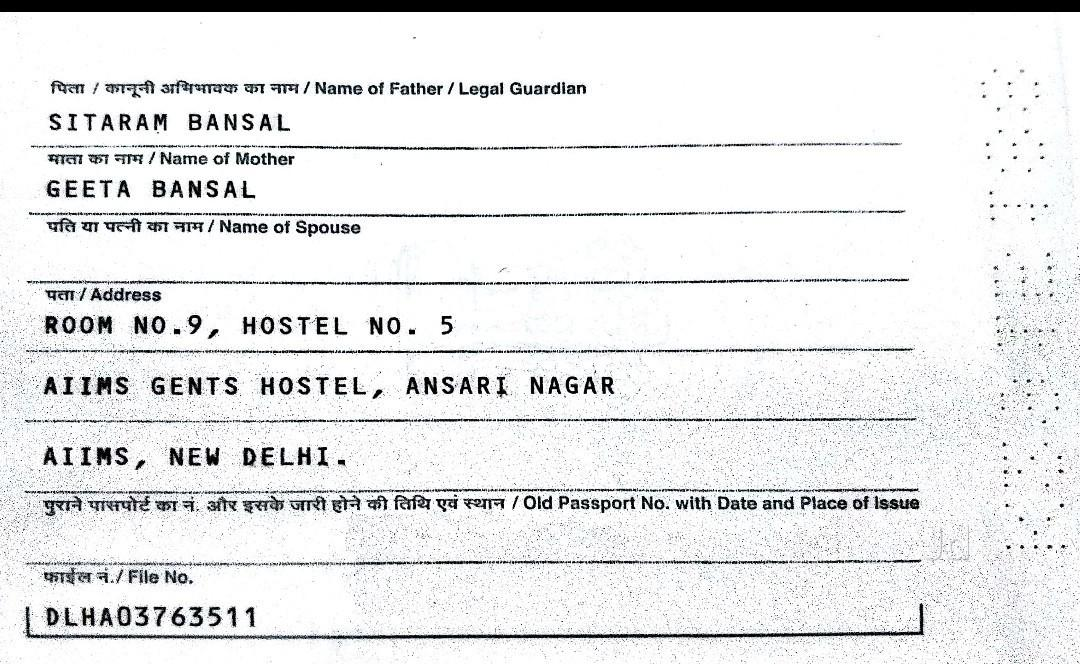File_no: (38, 597, 275, 640)
address: (28, 312, 640, 473)
father_name: (29, 104, 312, 140)
mother_name: (34, 170, 279, 209)
